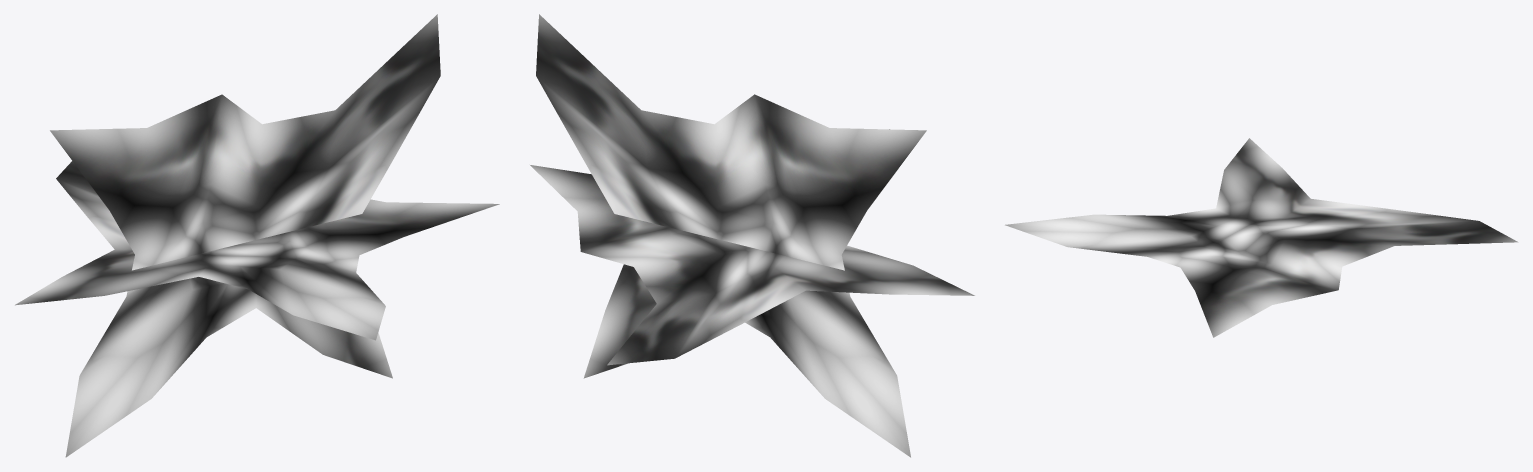
File: dead_headshot_models-07.FBX
3 views of the same model, side by side, from view 1: azimuth 30°, elevation 25°; view 2: azimuth 150°, elevation 25°; view 3: azimuth 270°, elevation 25° (orthographic). The views are drawn at different scales.
Parts seen in each view (by area): view 1: Plane002; view 2: Plane002; view 3: Plane002.
Part boxes in pixels (<box>): Plane002: <box>15,14,499,457</box>; Plane002: <box>530,14,974,457</box>; Plane002: <box>1005,138,1518,337</box>.
Size of the model in its own units: 33.21 by 24.08 by 35.74.
